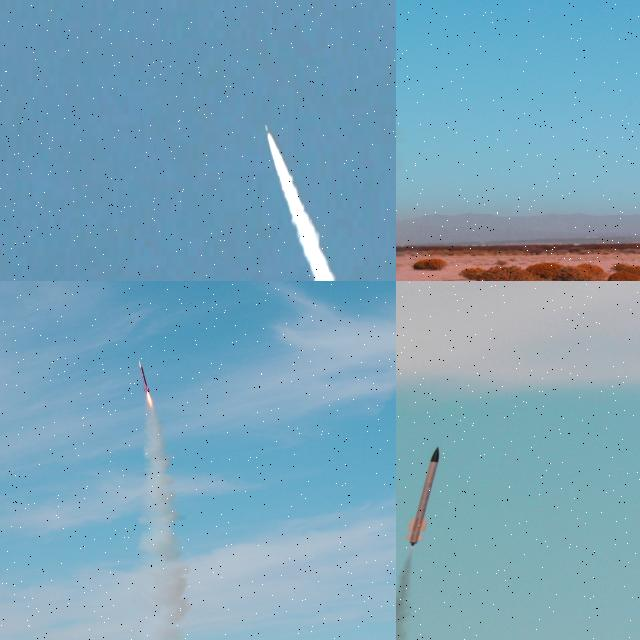Rocket: (404, 446, 440, 547), (138, 360, 150, 393), (265, 125, 269, 135)
